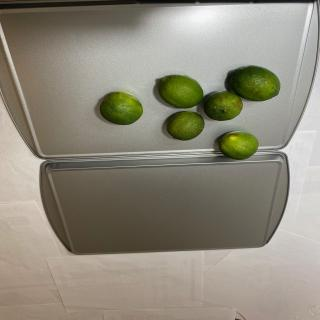Lemon: (230, 65, 280, 101), (158, 74, 204, 109), (99, 92, 143, 125), (203, 91, 243, 121), (166, 110, 205, 140), (219, 131, 259, 160)
